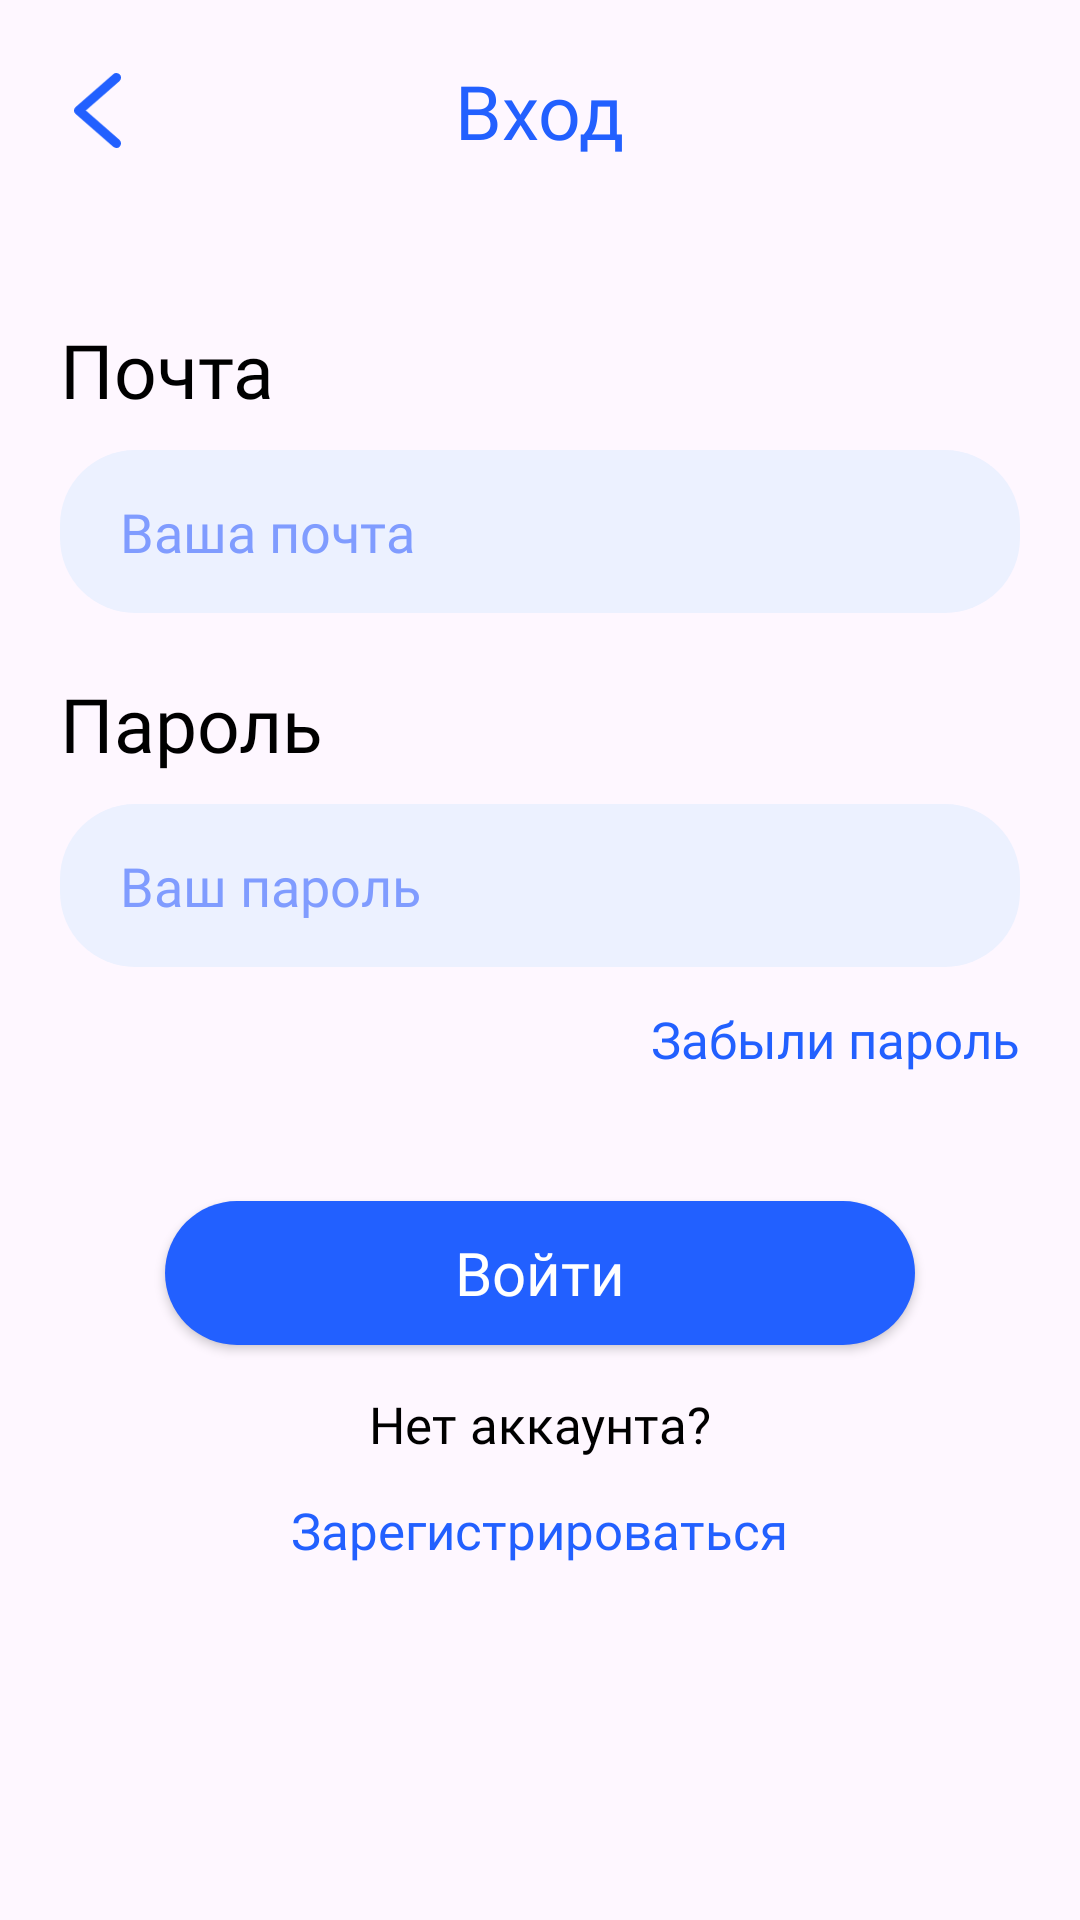

Named icons in this screenshot (1080*1920) and their bounding boxes, (x1, y1, x2, y2):
arrow back: (74, 73, 121, 148)
